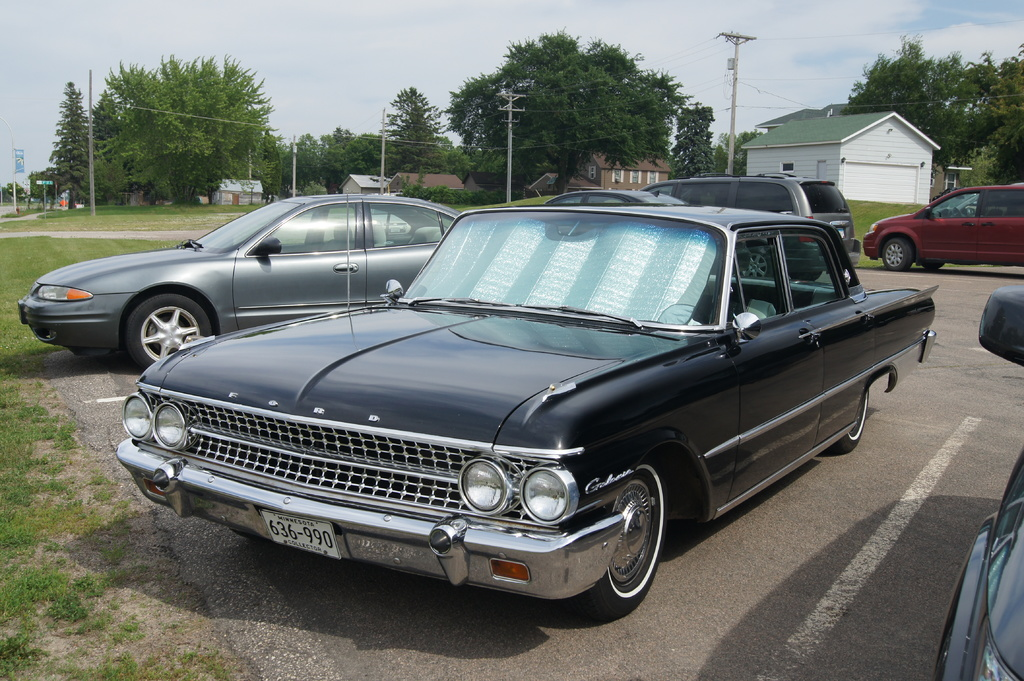Car: (96, 190, 947, 636), (17, 186, 449, 368), (932, 285, 1023, 680), (646, 174, 857, 279), (860, 175, 1023, 273), (547, 188, 695, 209)
